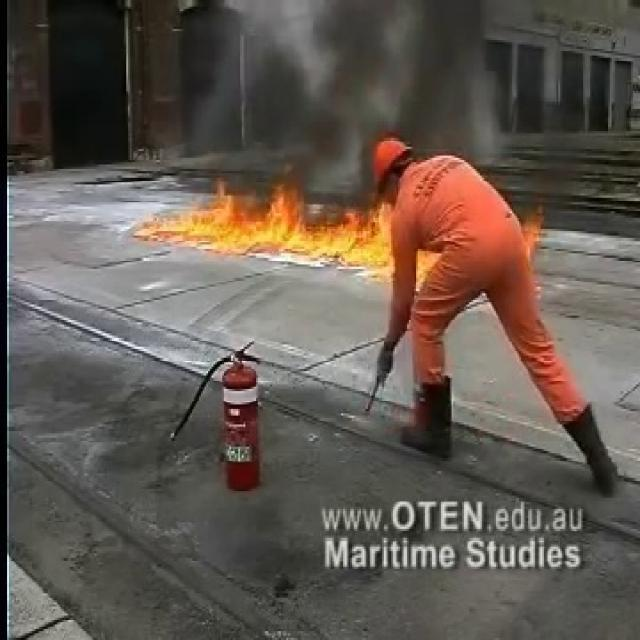Fire: (144, 173, 398, 264)
Smoke: (170, 0, 545, 162)
